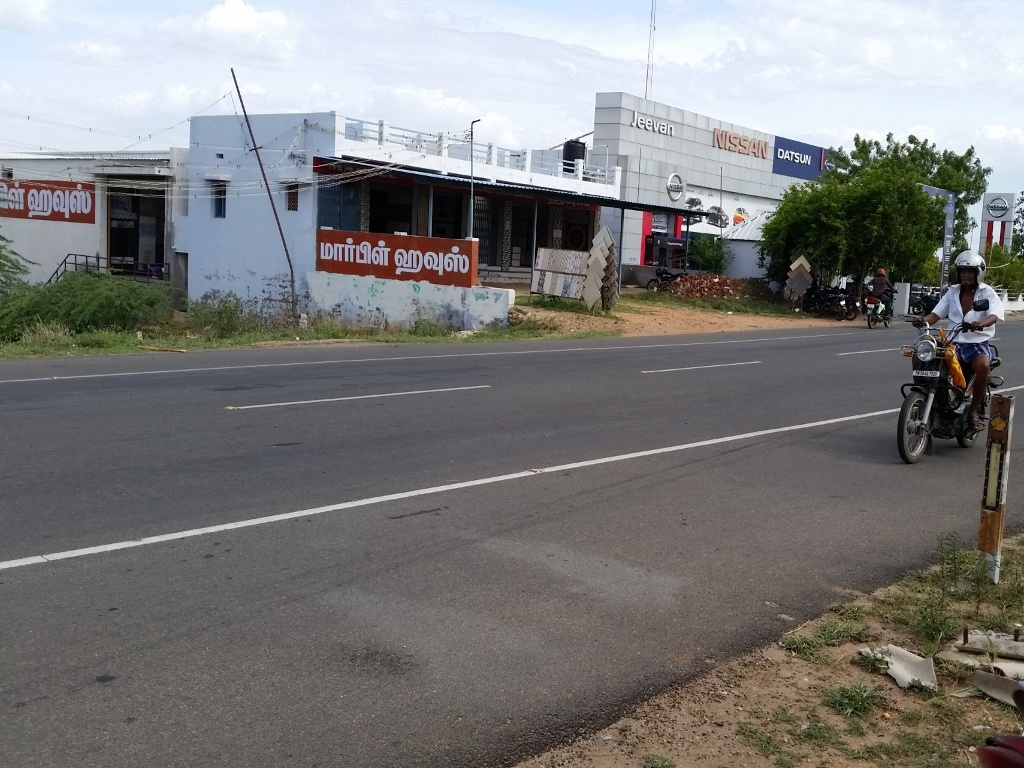biker: (883, 230, 1024, 473), (852, 246, 906, 339)
helmet: (948, 245, 995, 298), (873, 265, 888, 282)
